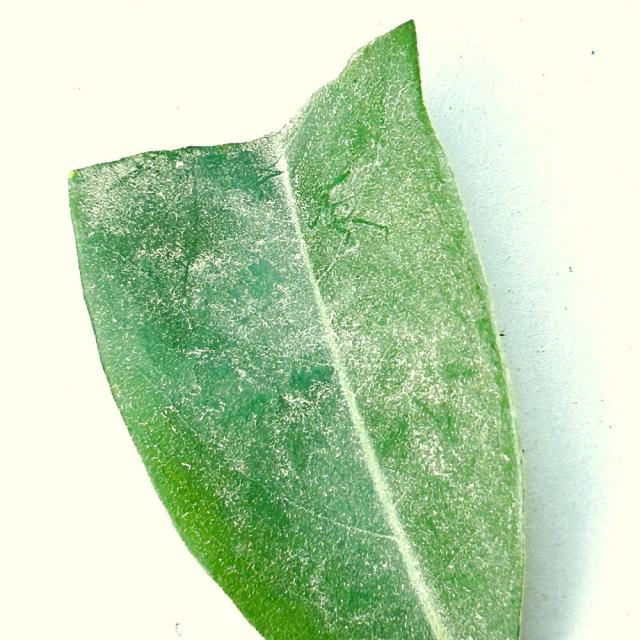Deficiency Leaf: (70, 21, 419, 169)
Lychee: (66, 20, 529, 639)
